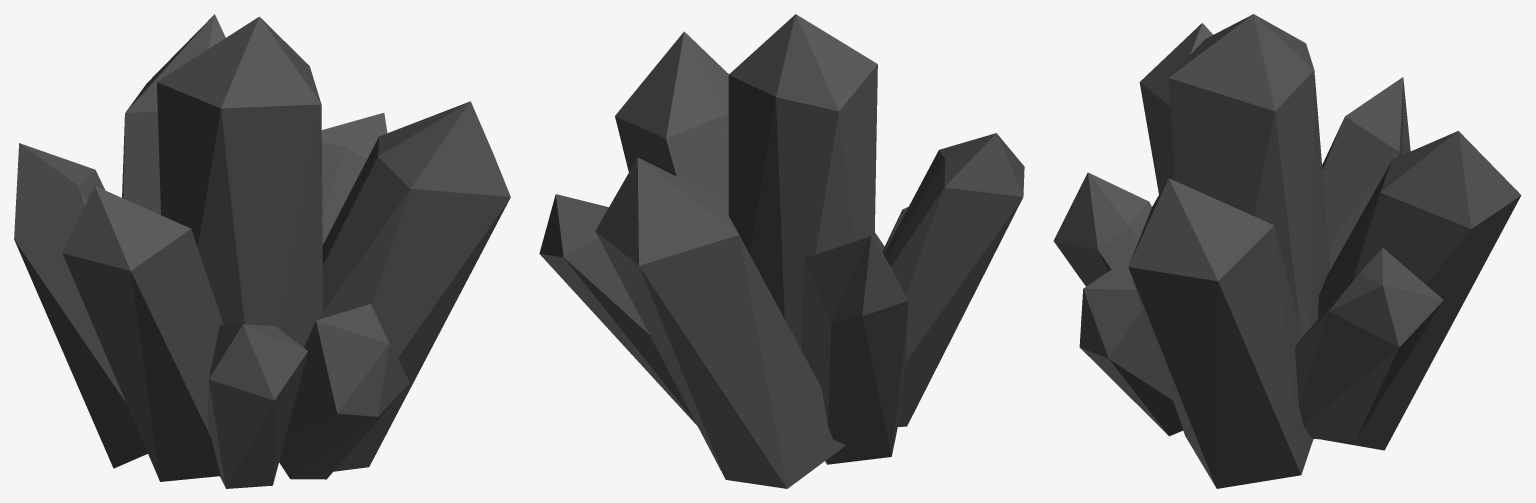
File: gray_crystal_block.obj
The picture shows the model from 3 angles, left to right: view 1: azimuth 30°, elevation 25°; view 2: azimuth 150°, elevation 25°; view 3: azimuth 270°, elevation 25°; orthographic projection. The views are drawn at different scales.
Visible parts, largest first — view 1: Icosphere.036_Icosphere.037; view 2: Icosphere.036_Icosphere.037; view 3: Icosphere.036_Icosphere.037.
Part boxes in pixels (x1,y1,x2,y2): Icosphere.036_Icosphere.037: (14,14,510,488); Icosphere.036_Icosphere.037: (539,14,1024,488); Icosphere.036_Icosphere.037: (1053,14,1521,488).
Bounding box in the file's own units: 1.01 × 1.01 × 0.9894.
